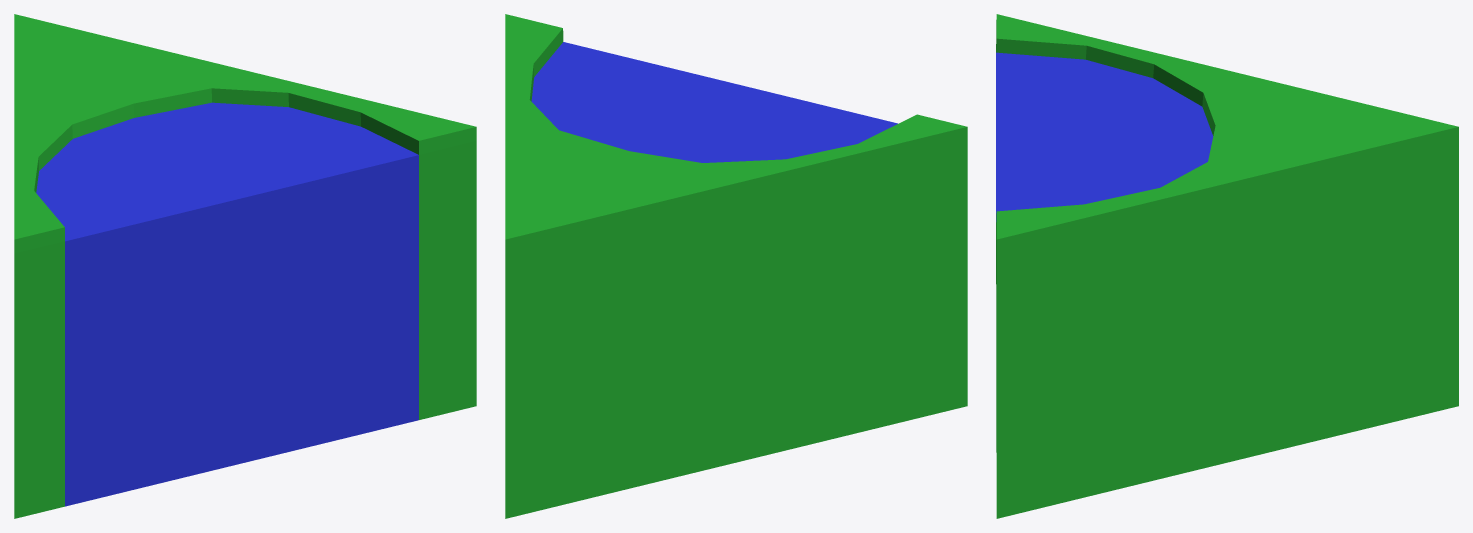
Rendered from module-face_river_end.glb.
3 renders of one model, left to right at view 1: azimuth 30°, elevation 25°; view 2: azimuth 150°, elevation 25°; view 3: azimuth 270°, elevation 25°, orthographic.
Visible parts, largest first — view 1: module-face_river_end; view 2: module-face_river_end; view 3: module-face_river_end.
Boxes of the visible parts, x1,y1,x2,y2 form: module-face_river_end: (14, 14, 476, 518); module-face_river_end: (505, 14, 967, 518); module-face_river_end: (996, 14, 1458, 518).
Size of the model in its own units: 0.866 by 0.5 by 0.7509.
